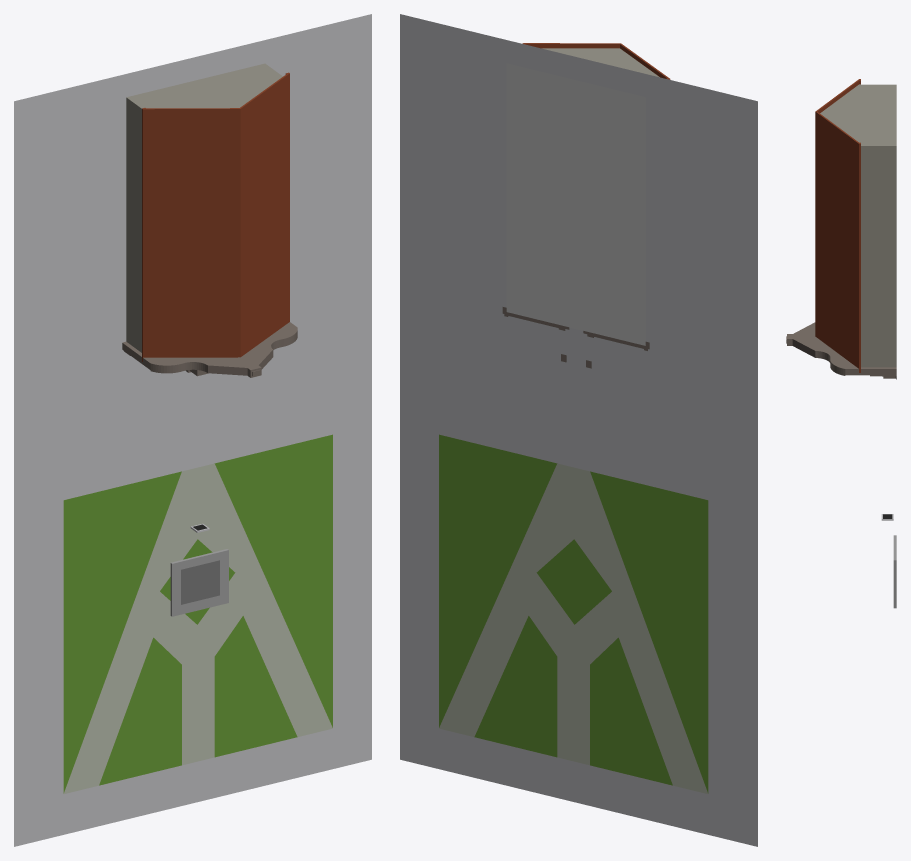
The model's file is san juan nepomuceno church.gltf.
3 renders of one model, left to right at view 1: azimuth 30°, elevation 25°; view 2: azimuth 150°, elevation 25°; view 3: azimuth 270°, elevation 25°, orthographic. The views are drawn at different scales.
Bounding box in the file's own units: 47.69 × 94.98 × 14.04.
